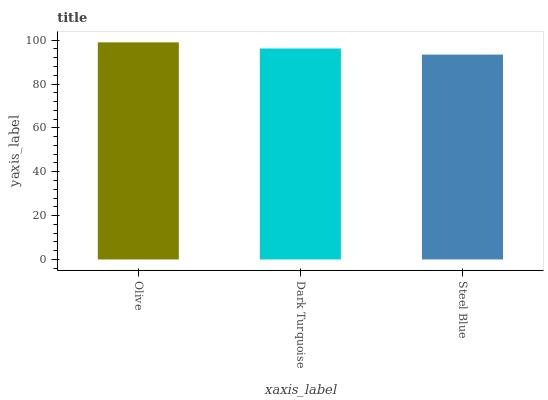axis: (48, 37, 63, 270)
label: (290, 278, 311, 374), (453, 277, 473, 342), (130, 276, 149, 318)
rectangle: (259, 49, 341, 260), (99, 43, 179, 259), (422, 54, 504, 260)
title: (53, 4, 93, 31)
